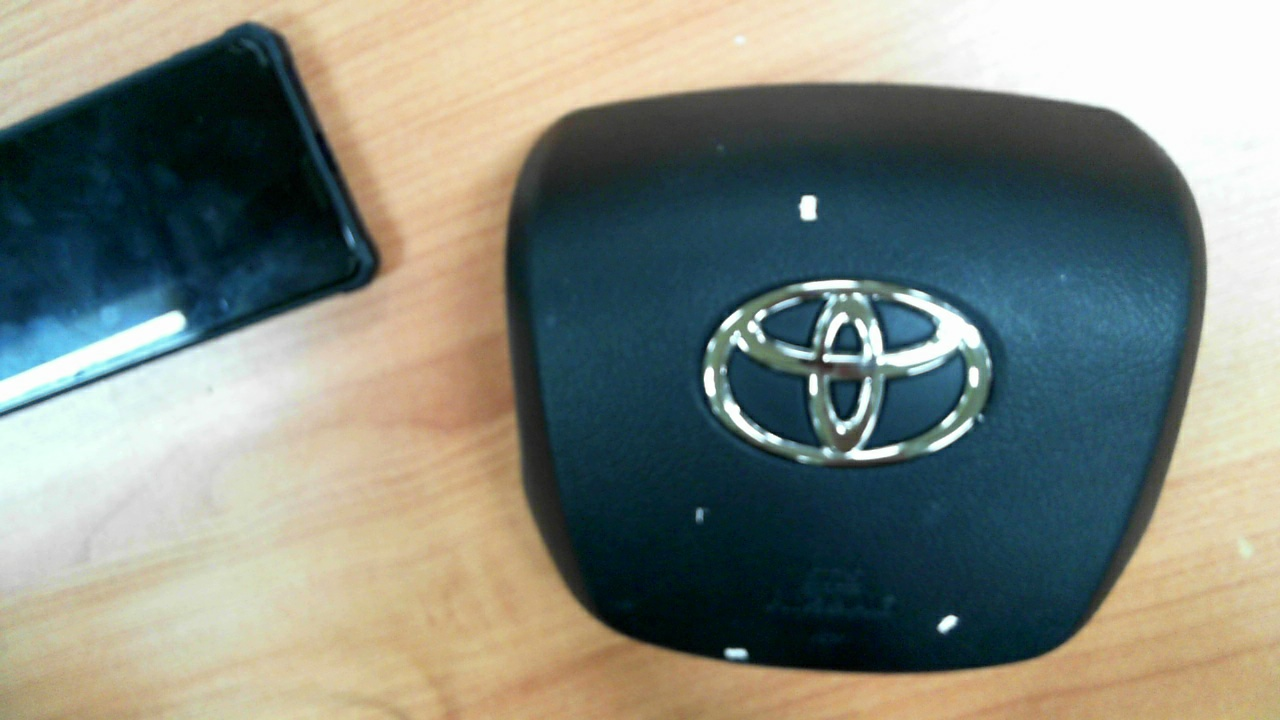Airbag: (498, 77, 1210, 671)
Mark: (798, 194, 820, 222), (936, 615, 959, 634), (723, 646, 750, 662), (695, 506, 705, 525), (1061, 274, 1063, 278)
